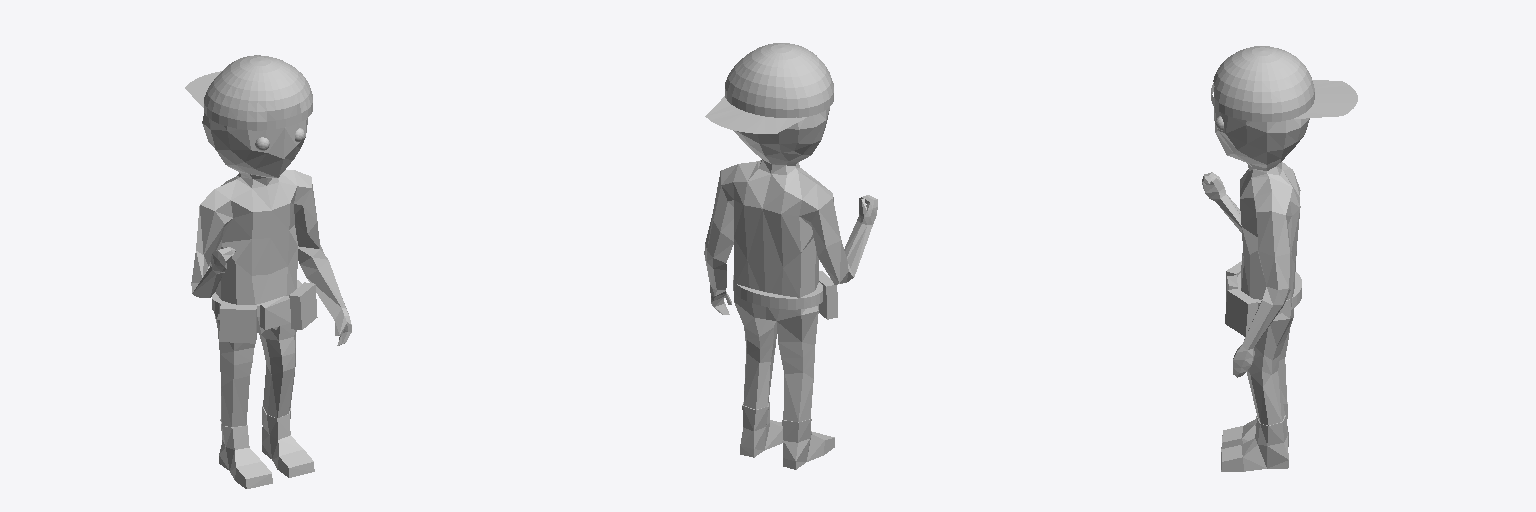
The model's file is Main_Character_Pickup_Paint_12.obj.
3 views of the same model, side by side, from view 1: azimuth 30°, elevation 25°; view 2: azimuth 150°, elevation 25°; view 3: azimuth 270°, elevation 25° (orthographic).
Parts seen in each view (by area): view 1: Main_Character_Test.003_Main_Character_Test.004; view 2: Main_Character_Test.003_Main_Character_Test.004; view 3: Main_Character_Test.003_Main_Character_Test.004.
Part boxes in pixels (left/top/right/bottom): Main_Character_Test.003_Main_Character_Test.004: left=185, top=55, right=351, bottom=488; Main_Character_Test.003_Main_Character_Test.004: left=704, top=43, right=877, bottom=469; Main_Character_Test.003_Main_Character_Test.004: left=1202, top=46, right=1357, bottom=471.
Size of the model in its own units: 1.54 by 3.98 by 1.39.